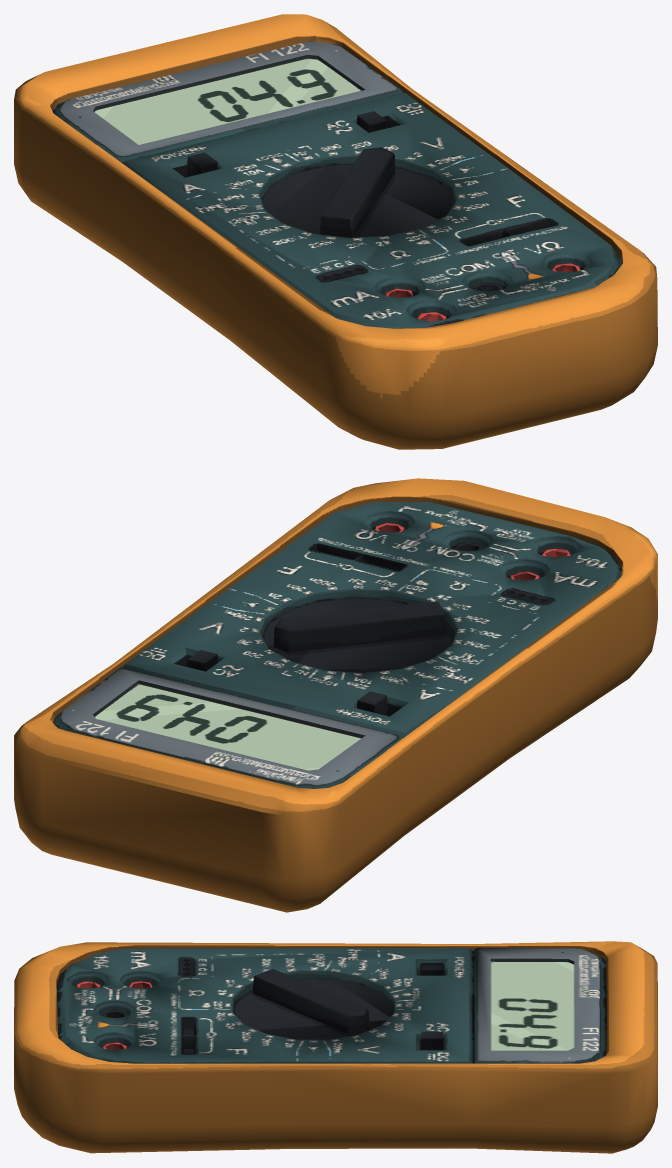
File: multimeter_model.glb
3 views of the same model, one above another, from view 1: azimuth 30°, elevation 25°; view 2: azimuth 150°, elevation 25°; view 3: azimuth 270°, elevation 25° (orthographic). The views are drawn at different scales.
Parts seen in each view (by area): view 1: multimeter; view 2: multimeter; view 3: multimeter.
Part boxes in pixels (x1=…): multimeter: x1=14, y1=14, x2=657, y2=449; multimeter: x1=14, y1=478, x2=657, y2=912; multimeter: x1=14, y1=941, x2=657, y2=1153.
Bounding box in the file's own units: 0.0786 × 0.0313 × 0.1649.
Materials: 1 (1 with a texture image).
